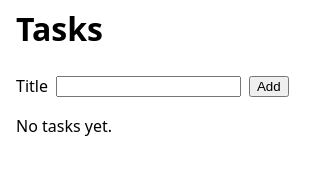
TaskApp › rejects , explains why, and keeps the input
Clear the field labelled "Title" at x=148, y=86, box [56, 76, 241, 97]
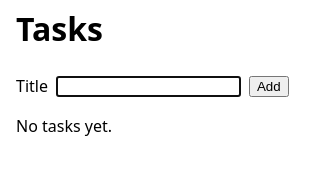
Click the button "Add".
click(269, 86)  # box [249, 76, 289, 97]
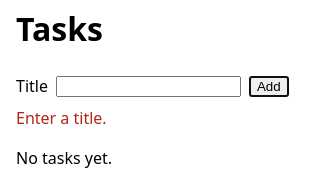
Expected: the text "No tasks yet." is shown, [16, 147, 112, 169]
Expected: the message reads "Enter a title.", [16, 107, 107, 129]
